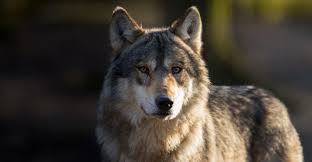Lobo: (106, 5, 225, 151)
